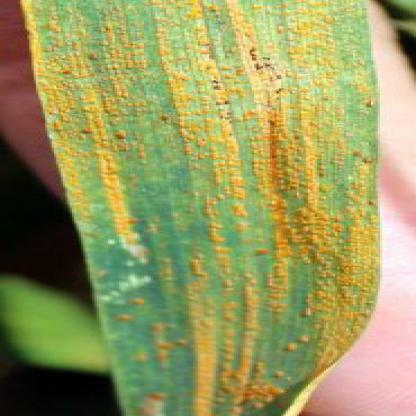corn rust leaf: (11, 5, 398, 415)
